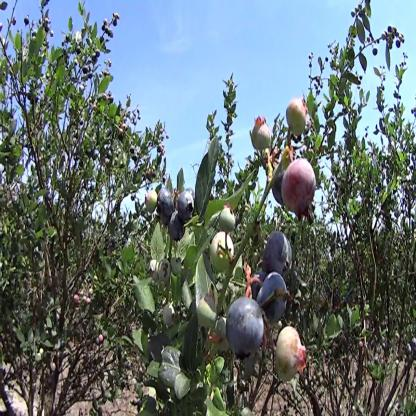intermediate: (280, 160, 323, 208)
mature: (228, 294, 267, 355), (259, 262, 290, 319), (260, 228, 290, 270), (175, 193, 195, 219), (160, 190, 172, 229), (170, 216, 184, 246)
young: (275, 319, 306, 382), (204, 231, 237, 270), (211, 203, 244, 234), (284, 93, 308, 135), (248, 116, 270, 155), (198, 298, 216, 329), (143, 190, 160, 217), (147, 260, 170, 279), (165, 310, 174, 324)
